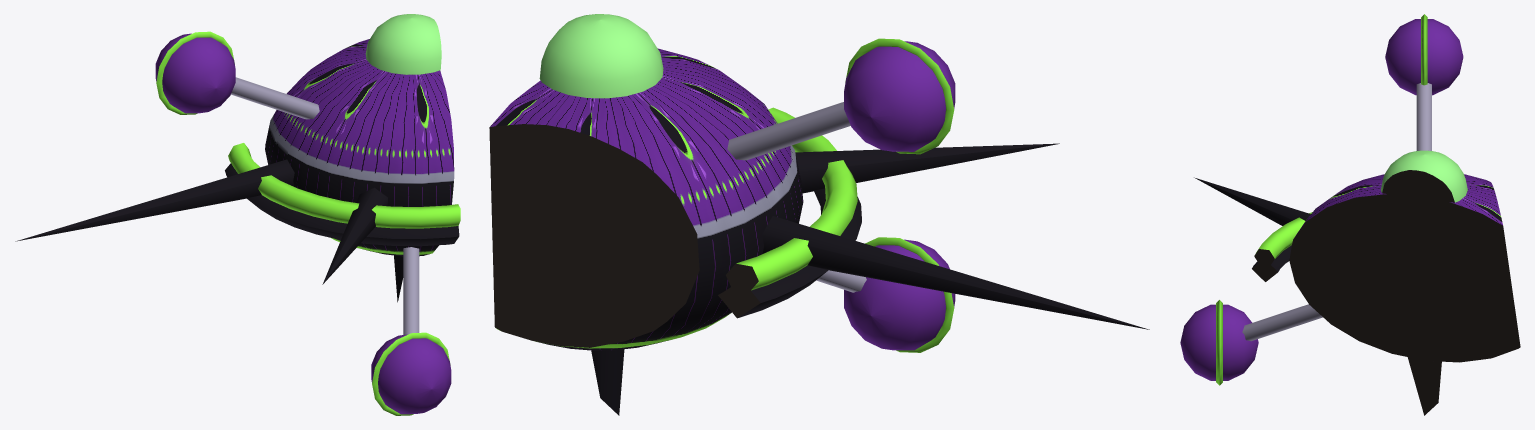
Rendered from dominion_outpost_debris4.obj.
3 views of the same model, side by side, from view 1: azimuth 30°, elevation 25°; view 2: azimuth 150°, elevation 25°; view 3: azimuth 270°, elevation 25° (orthographic). The views are drawn at different scales.
Visible parts, largest first — view 1: hub, pod, spike, glow_ring, crown, ring_frame, strut, pod_band; view 2: hub, pod, spike, crown, glow_ring, strut, ring_frame, pod_band; view 3: hub, pod, crown, spike, strut, glow_ring, pod_band, ring_frame.
Boxes of the visible parts, <box> form: hub: <box>265,39,454,256</box>; pod: <box>155,33,451,414</box>; spike: <box>15,159,403,302</box>; glow_ring: <box>228,143,460,228</box>; crown: <box>365,14,441,74</box>; ring_frame: <box>225,163,459,246</box>; strut: <box>231,77,419,334</box>; pod_band: <box>156,31,450,415</box>; hub: <box>489,48,803,350</box>; pod: <box>844,41,955,350</box>; spike: <box>591,143,1149,415</box>; crown: <box>539,14,663,98</box>; glow_ring: <box>726,107,857,290</box>; strut: <box>590,102,866,344</box>; ring_frame: <box>718,188,861,318</box>; pod_band: <box>845,38,954,352</box>; hub: <box>1289,174,1520,362</box>; pod: <box>1180,19,1463,380</box>; crown: <box>1381,150,1467,202</box>; spike: <box>1194,177,1442,415</box>; strut: <box>1242,83,1431,341</box>; glow_ring: <box>1254,212,1312,266</box>; pod_band: <box>1216,14,1427,385</box>; ring_frame: <box>1252,245,1291,281</box>.
Size of the model in its own units: 110 by 79.56 by 78.17.
7 materials, 1 textured.
